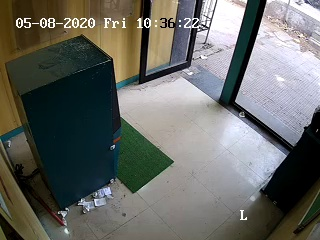open: (136, 5, 266, 107)
